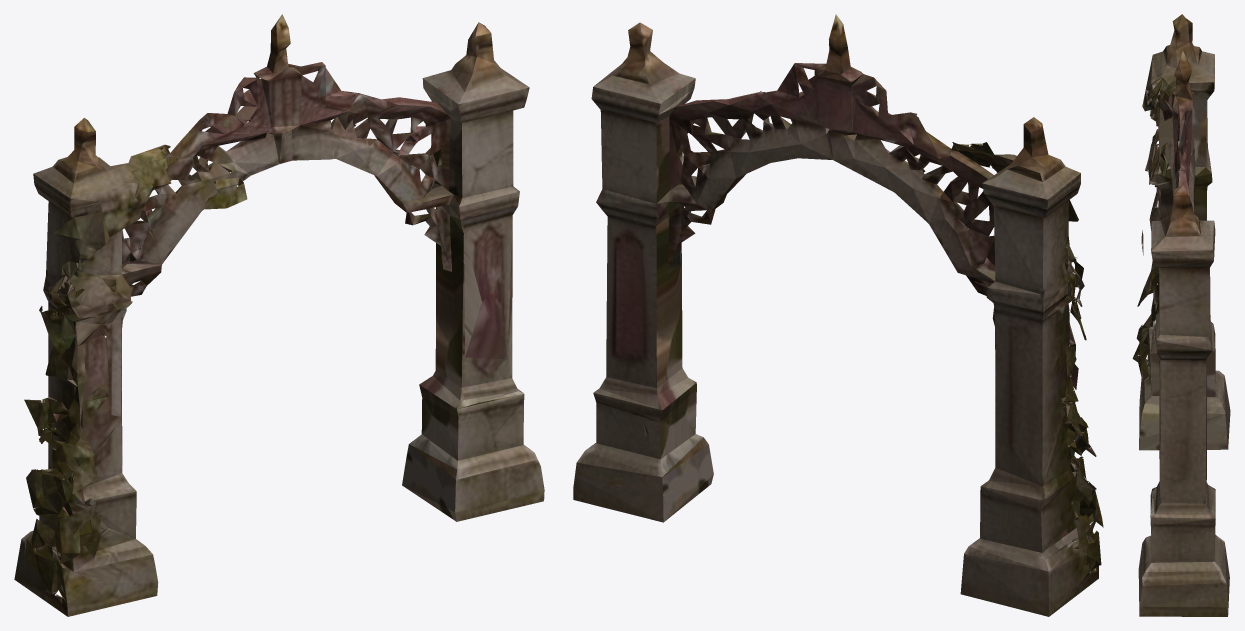
The model's file is park_ivy_arch_1117.glb.
3 renders of one model, left to right at view 1: azimuth 30°, elevation 25°; view 2: azimuth 150°, elevation 25°; view 3: azimuth 270°, elevation 25°, orthographic. The views are drawn at different scales.
Visible parts, largest first — view 1: world; view 2: world; view 3: world.
Part boxes in pixels (x1,y1,x2,y2): world: (14, 14, 544, 616); world: (573, 14, 1103, 616); world: (1132, 14, 1230, 616).
Size of the model in its own units: 0.9802 by 1 by 0.1914.
Materials: 1 (1 with a texture image).
